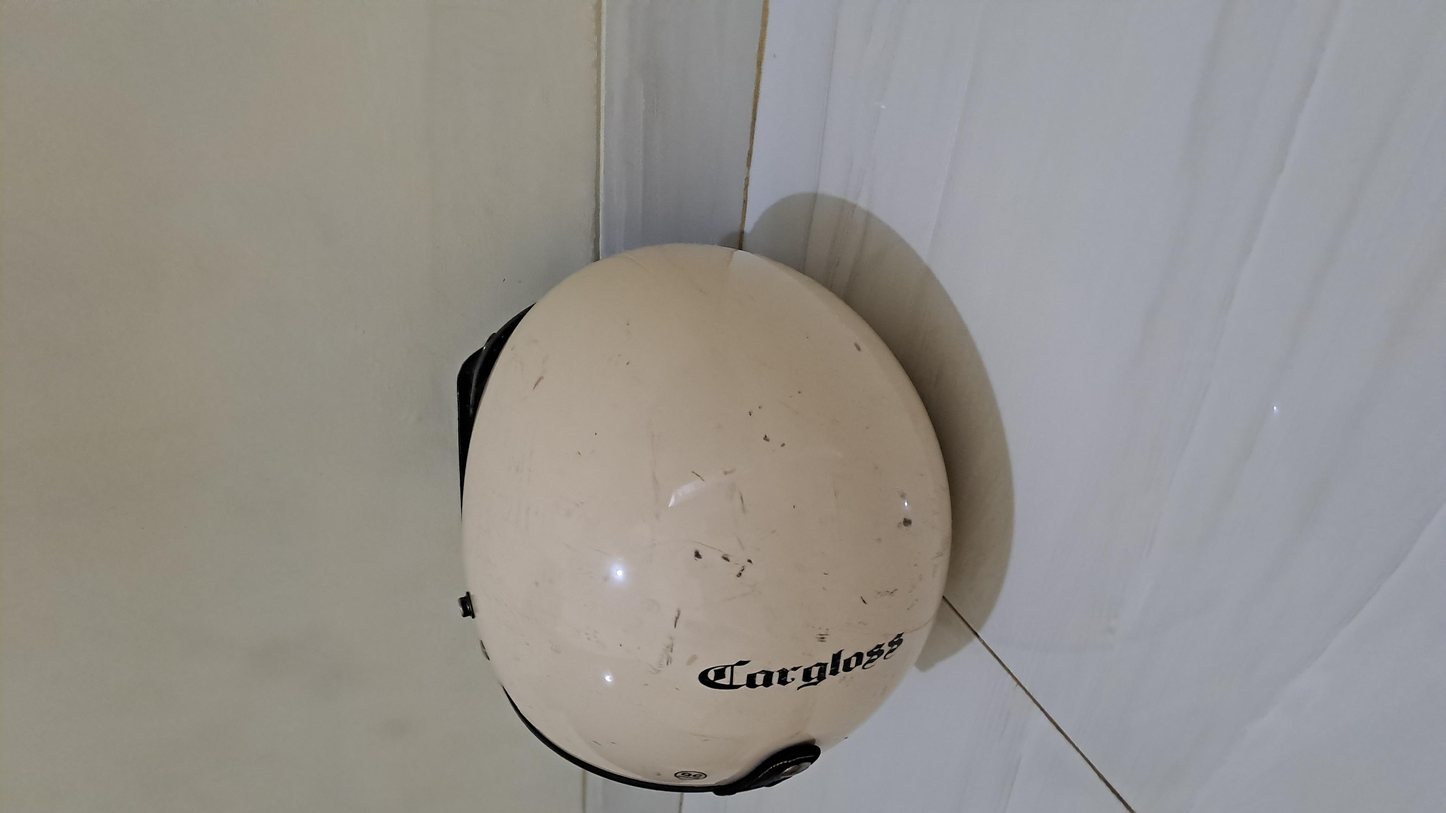helmet: (21, 228, 1053, 567)
